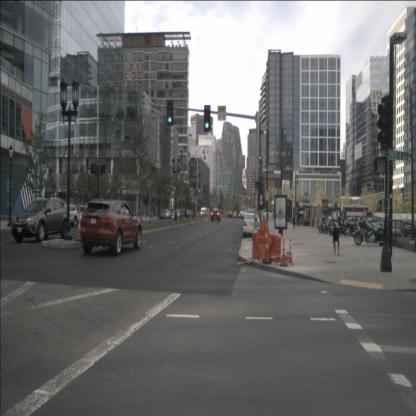barrier: (252, 232, 282, 263)
cone: (74, 202, 84, 242), (263, 220, 272, 264), (280, 238, 288, 267), (286, 238, 294, 265)
